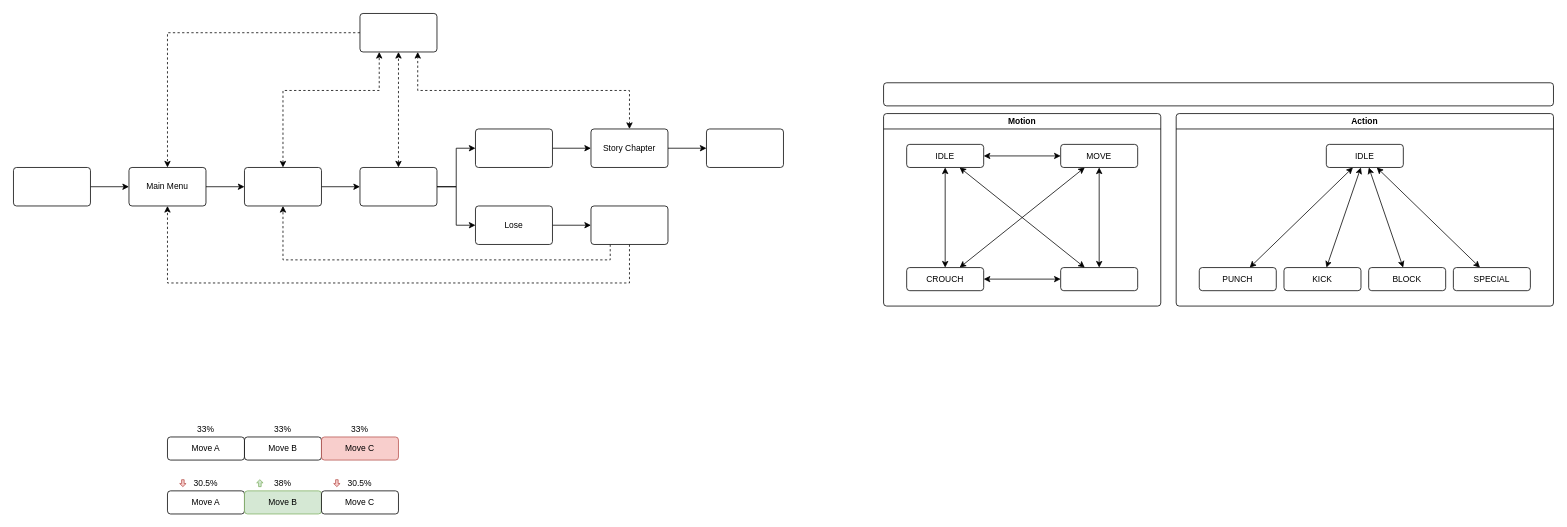
Some shapes in this 1567 by 527 pixel diagram are drawn without their labels. The centre of each missing label's shape, as x and y in pixels:
"AIR" goes at (1099,279).
"Composite State" goes at (1218,94).
"Ending" goes at (744,147).
"Fighter Selection" goes at (282,186).
"Fighting" goes at (398,186).
"Game Over" goes at (629,224).
"Pause Menu" goes at (398,32).
"Splash Screen" goes at (51,186).
"Win" goes at (513,147).
